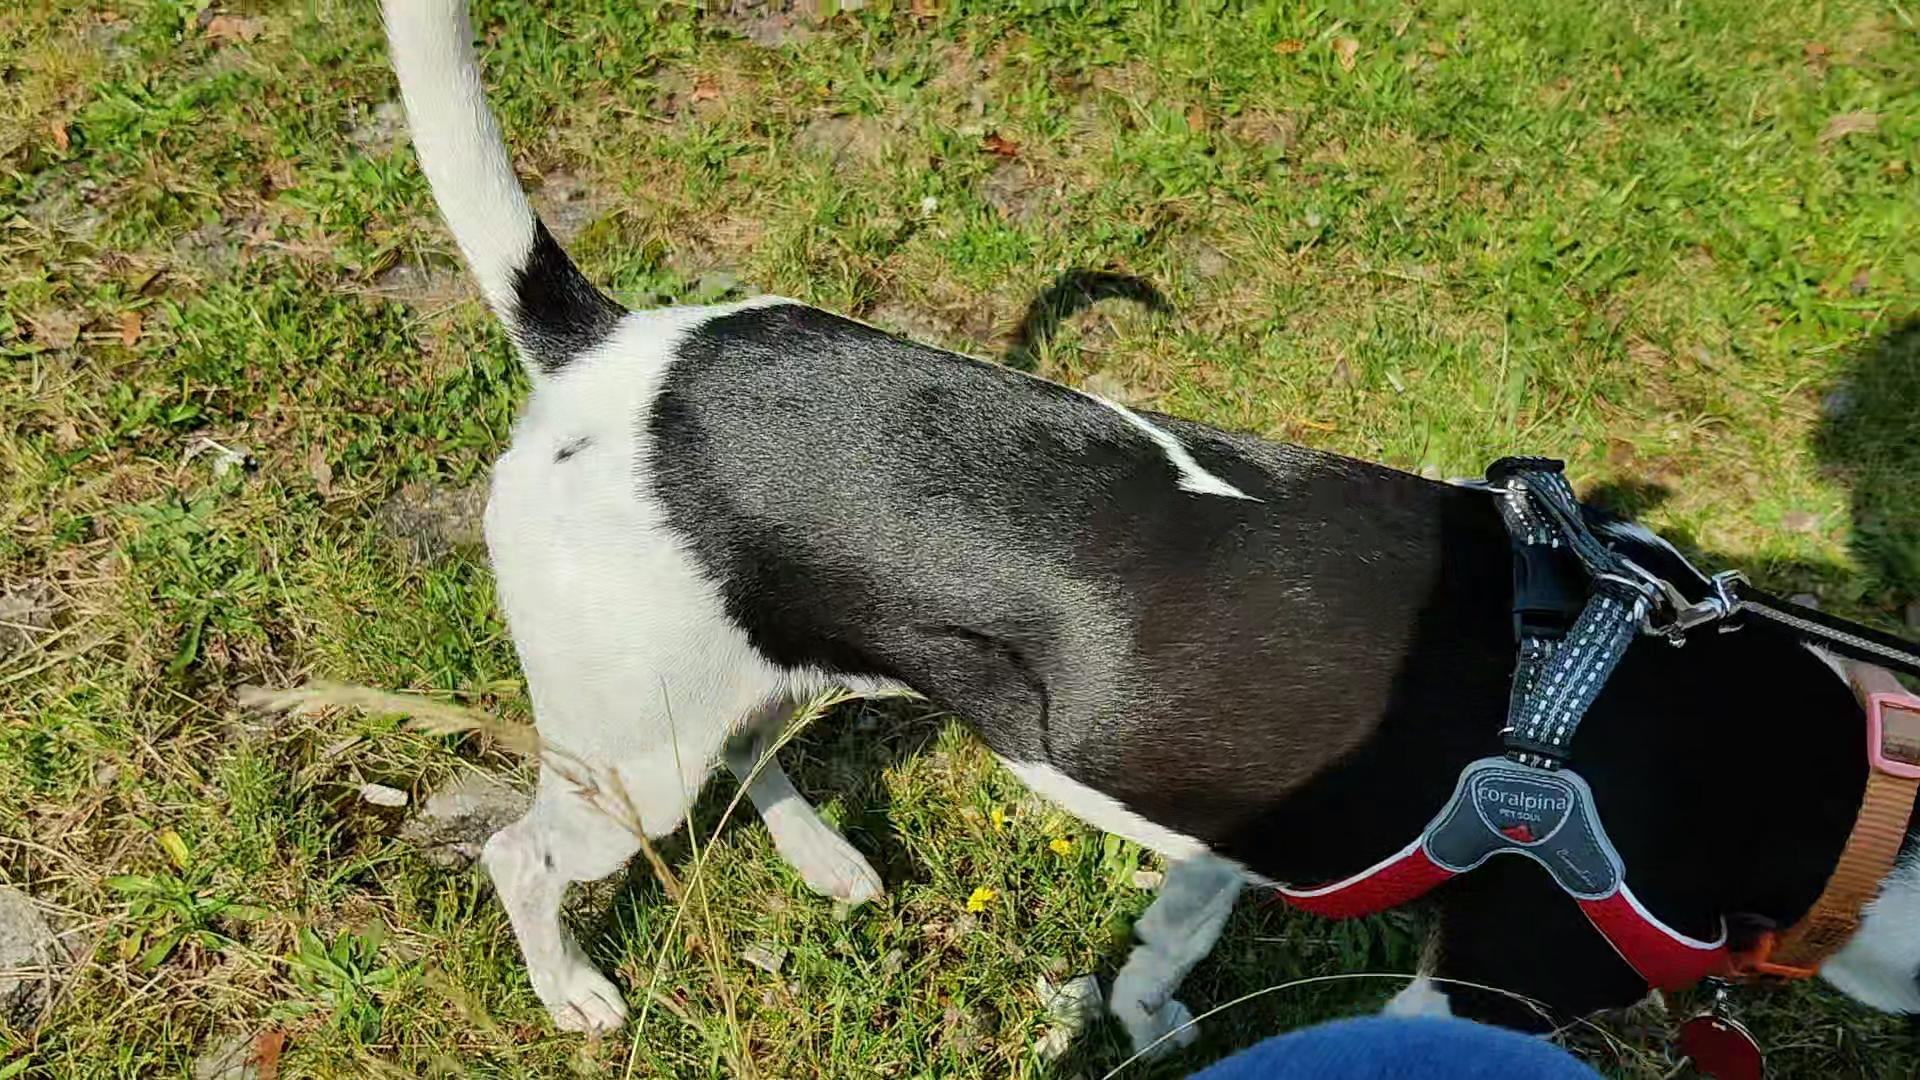Dog: (363, 0, 1919, 1055)
